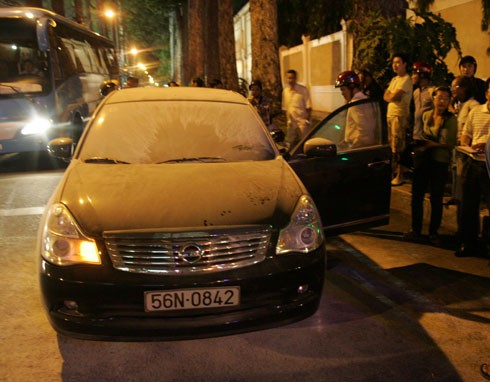number_plate: (131, 281, 251, 319)
